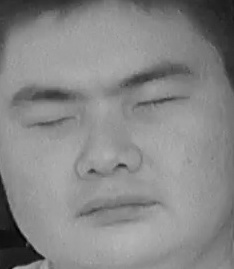blink: (28, 102, 82, 140), (132, 86, 183, 120)
mouth: (66, 180, 166, 232)
